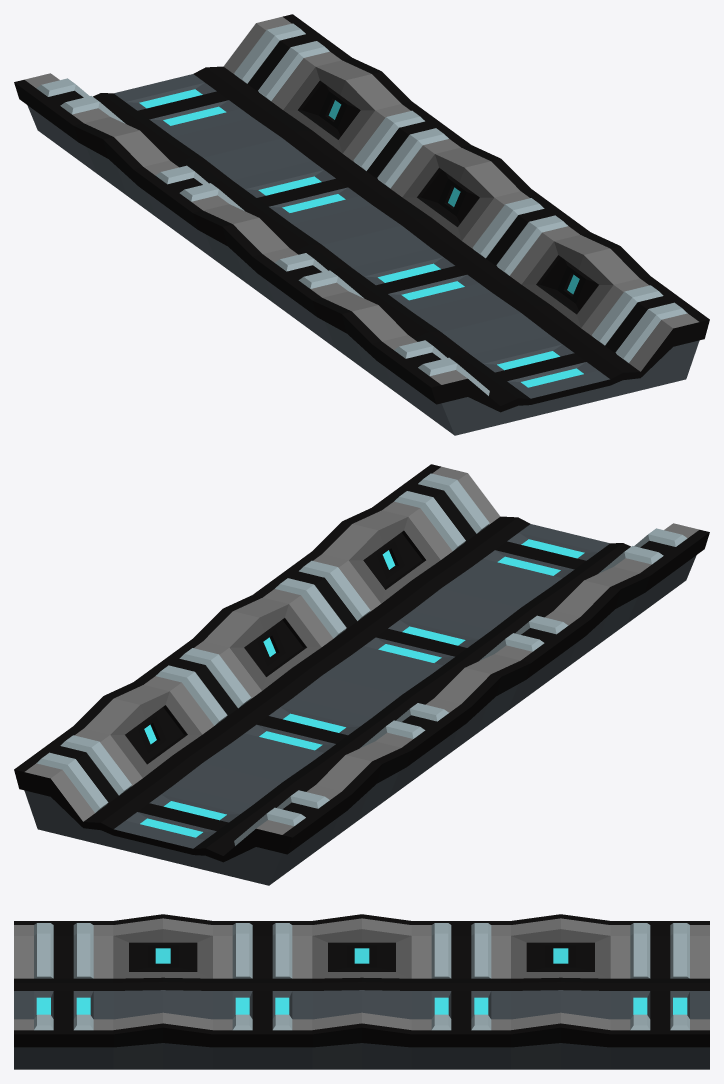
File: Bridge.fbx
The picture shows the model from 3 angles, top to bottom: view 1: azimuth 30°, elevation 25°; view 2: azimuth 150°, elevation 25°; view 3: azimuth 270°, elevation 25°; orthographic projection. The views are drawn at different scales.
Visible parts, largest first — view 1: Bridge; view 2: Bridge; view 3: Bridge.
Boxes of the visible parts, bbox=[...] form: Bridge: bbox=[14, 14, 709, 435]; Bridge: bbox=[14, 464, 709, 885]; Bridge: bbox=[14, 914, 709, 1069].
Size of the model in its own units: 244 by 52.04 by 634.
